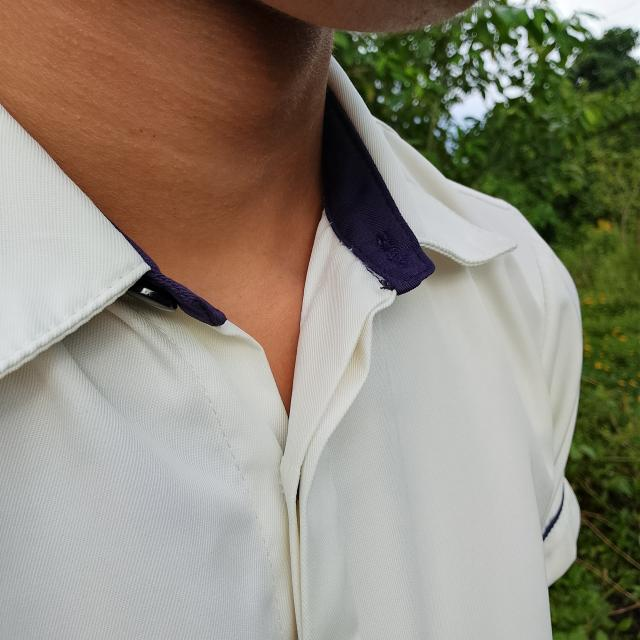education_male_uniform: (0, 36, 604, 629)
